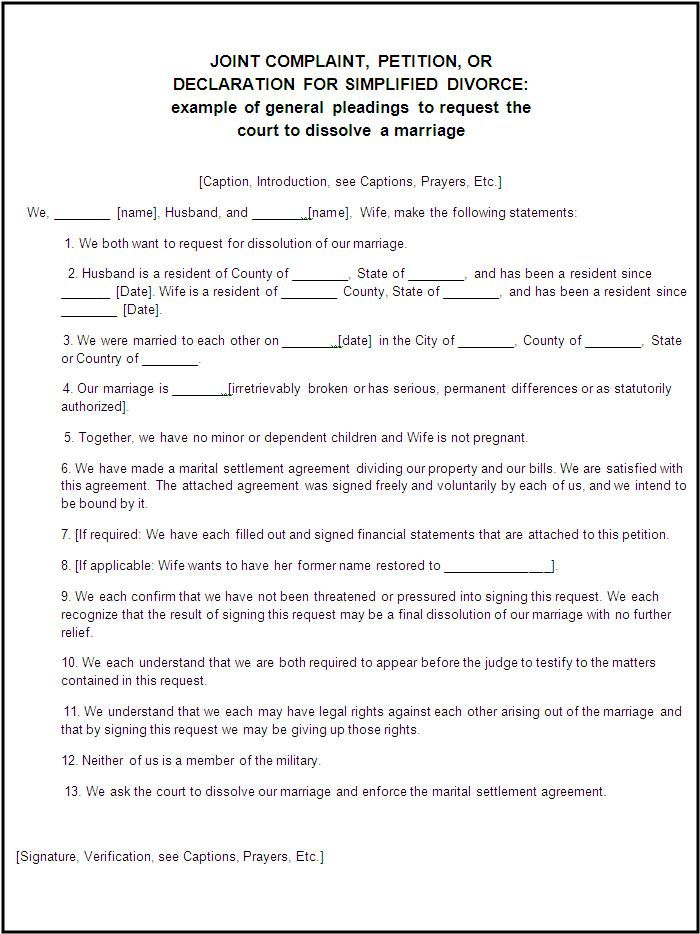textline: (441, 557, 554, 574), (168, 381, 228, 398), (50, 207, 113, 222), (250, 206, 313, 221), (288, 267, 351, 282), (404, 268, 467, 283), (279, 285, 337, 301), (441, 284, 499, 300), (59, 302, 117, 318), (283, 333, 341, 349), (456, 333, 514, 349), (584, 333, 642, 349), (140, 351, 198, 367), (58, 286, 112, 301)
